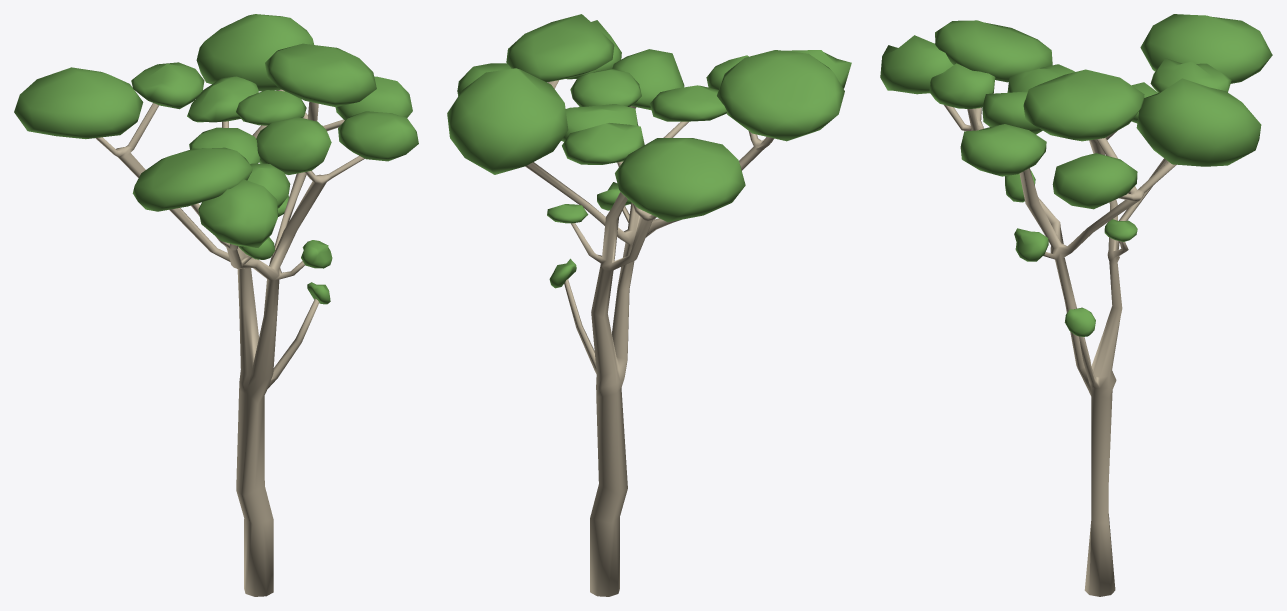
Rendered from Vegetacao-Arvore-Tipo-01-01.fbx.
3 renders of one model, left to right at view 1: azimuth 30°, elevation 25°; view 2: azimuth 150°, elevation 25°; view 3: azimuth 270°, elevation 25°, orthographic.
Parts seen in each view (by area): view 1: Vegetacao-Arvore-Tipo-01-01; view 2: Vegetacao-Arvore-Tipo-01-01; view 3: Vegetacao-Arvore-Tipo-01-01.
Part boxes in pixels (left/top/right/bottom): Vegetacao-Arvore-Tipo-01-01: left=14, top=14, right=418, bottom=596; Vegetacao-Arvore-Tipo-01-01: left=447, top=14, right=851, bottom=596; Vegetacao-Arvore-Tipo-01-01: left=880, top=14, right=1272, bottom=596.
Bounding box in the file's own units: 163 × 256 × 170.
